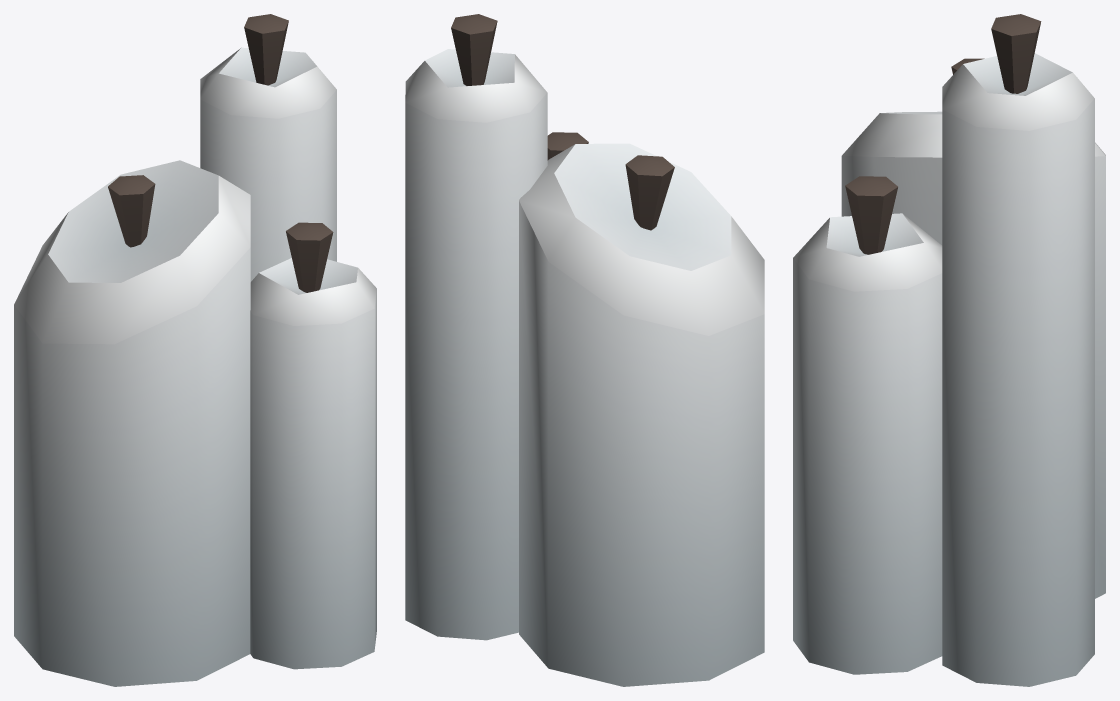
The model's file is cc0-candle-triple-lod1.glb.
The picture shows the model from 3 angles, left to right: view 1: azimuth 30°, elevation 25°; view 2: azimuth 150°, elevation 25°; view 3: azimuth 270°, elevation 25°; orthographic projection. The views are drawn at different scales.
Parts seen in each view (by area): view 1: part_0; view 2: part_0; view 3: part_0.
Part boxes in pixels (x1,y1,x2,y2): part_0: (14,14,376,686); part_0: (405,14,764,686); part_0: (793,14,1105,686).
Size of the model in its own units: 0.4511 by 0.7857 by 0.3509.
1 material, 1 textured.
